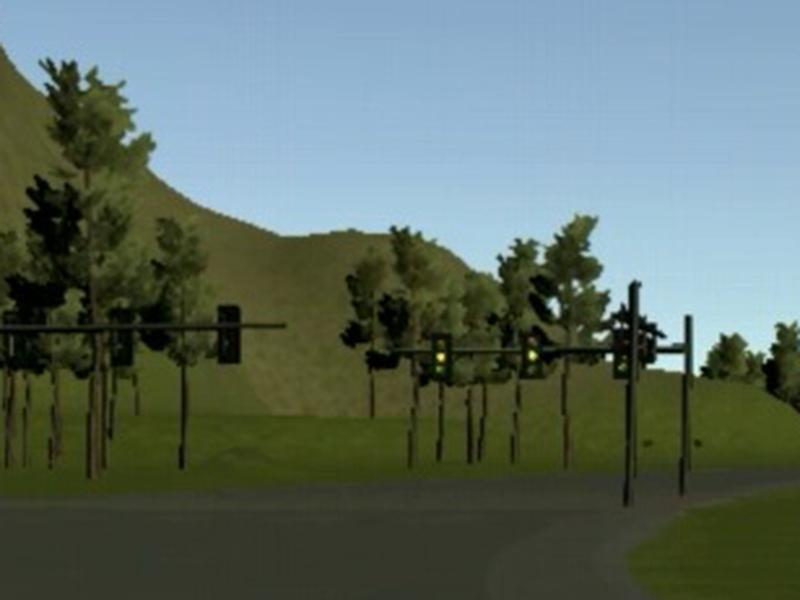Yellow: (430, 333, 451, 379), (522, 334, 542, 379)
